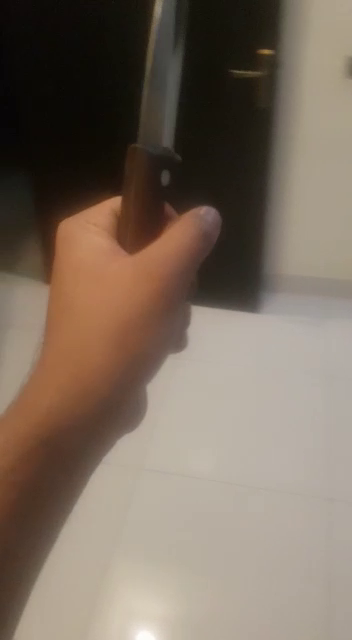knife: (11, 4, 341, 482)
